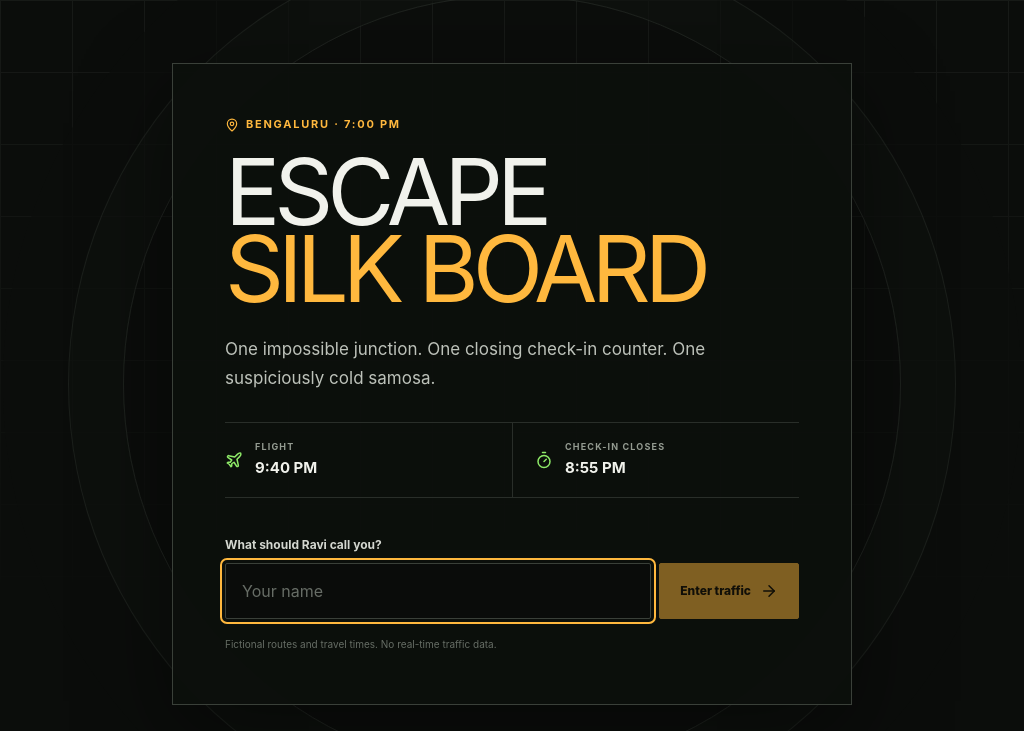
Escape Silk Board app › starts a game and renders the full dashboard
The width and height of the screenshot is (1024, 731).
Expected: the heading is shown, top-left (225, 136), bottom-right (705, 324)
Type "Maya" into the field labelled "What should Ravi call you?" at (438, 591), box top-left (225, 563), bottom-right (651, 619)
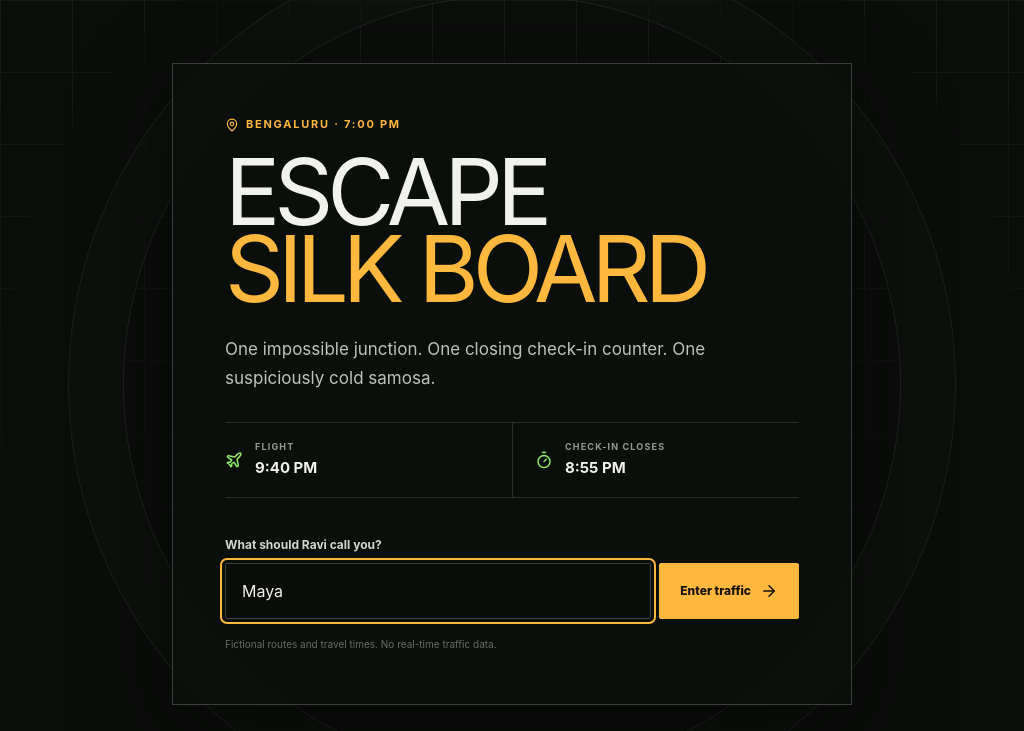
Click the button "Enter traffic" at (729, 591), box top-left (659, 563), bottom-right (799, 619)
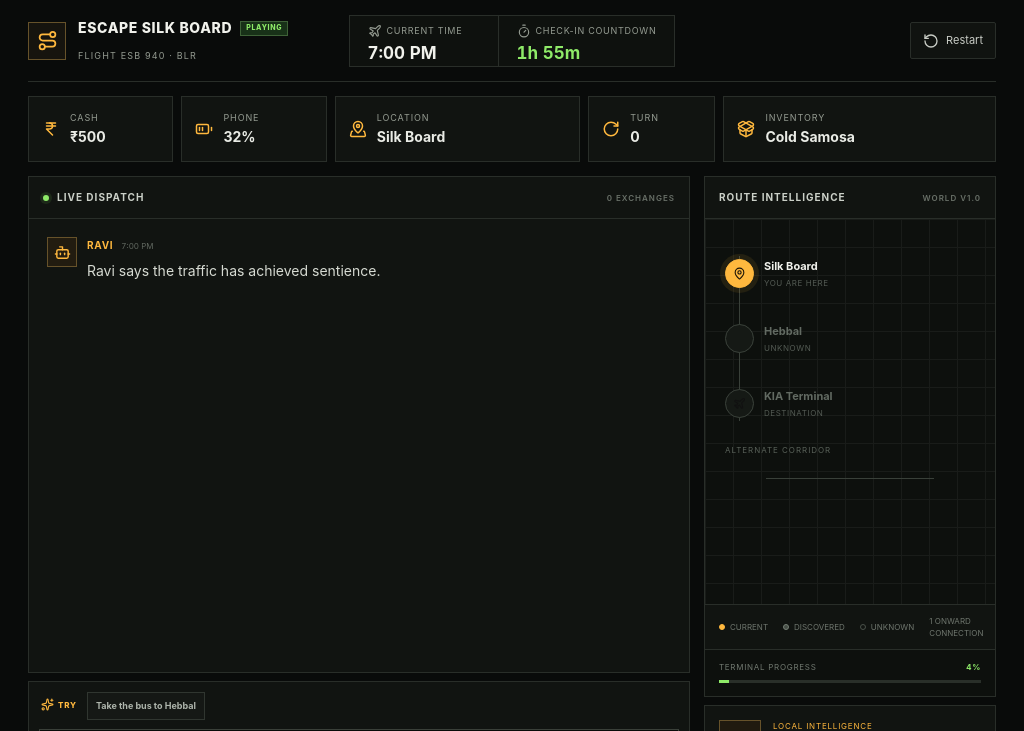
Expected: the text "₹500" is shown, top-left (70, 126), bottom-right (106, 147)
Expected: the text "Silk Board" below "Location" is shown, top-left (377, 128), bottom-right (445, 145)
Expected: the text "32%" is shown, top-left (223, 126), bottom-right (259, 147)
